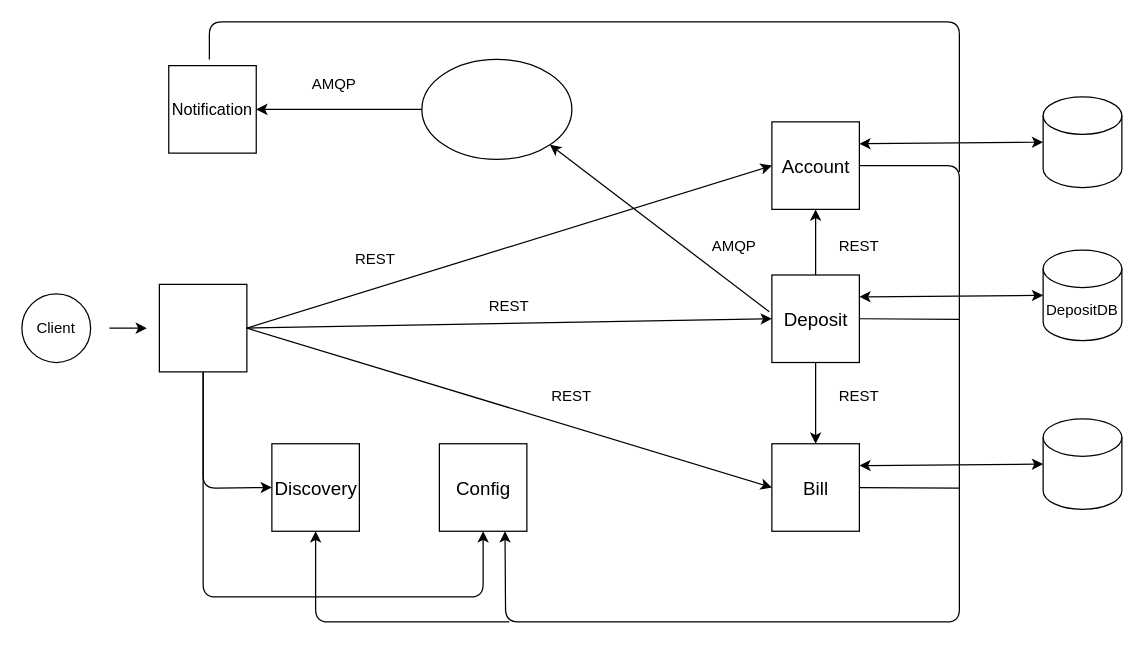
Image size: 1144x654. Some labels were removed from this diagram. The shapes that lost their labels are listed below. From the top down, each one's centre as x and y in pixels, then its label:
At (496,108): "RabbitMQ".
At (1082,142): "AccountDB".
At (202,327): "Gateway".
At (1082,463): "BillDB".
